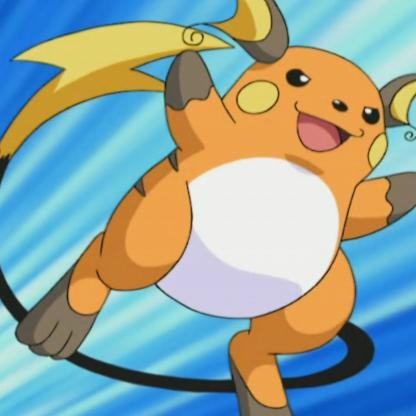Raichu: (1, 5, 416, 416)
